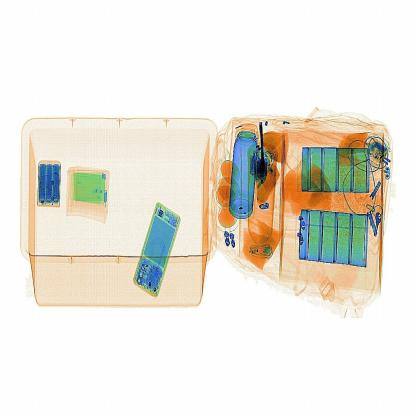knife: (256, 116, 278, 179)
